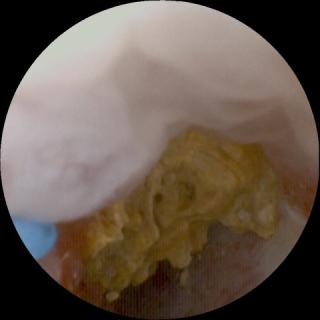fiber: (14, 217, 57, 259)
stone: (82, 128, 281, 303)
tissue: (3, 6, 314, 317)
